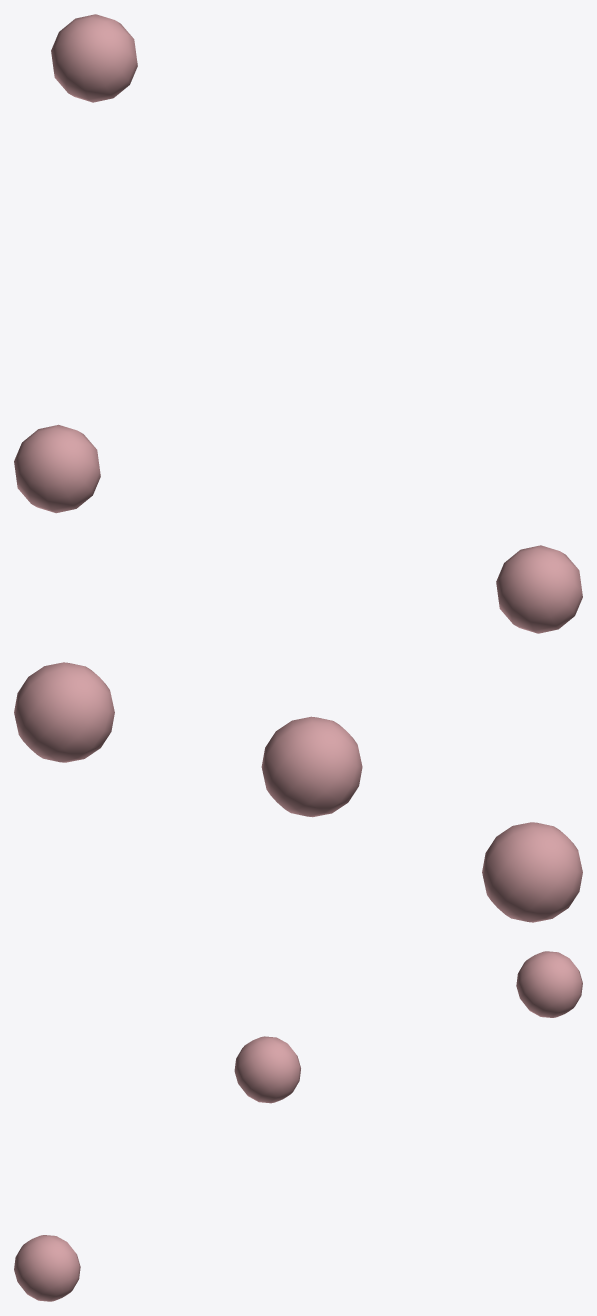
3 renders of one model, top to bottom at view 1: azimuth 30°, elevation 25°; view 2: azimuth 150°, elevation 25°; view 3: azimuth 270°, elevation 25°, orthographic. The views are drawn at different scales.
Parts seen in each view (by area): view 1: ZA_7b8817d30501e811; view 2: ZA_7b8817d30501e811; view 3: ZA_7b8817d30501e811.
Part boxes in pixels (x1,y1,x2,y2): ZA_7b8817d30501e811: [14, 14, 582, 633]; ZA_7b8817d30501e811: [14, 662, 582, 922]; ZA_7b8817d30501e811: [14, 951, 582, 1301].
Size of the model in its own units: 0.014 by 0.0129 by 0.022.
